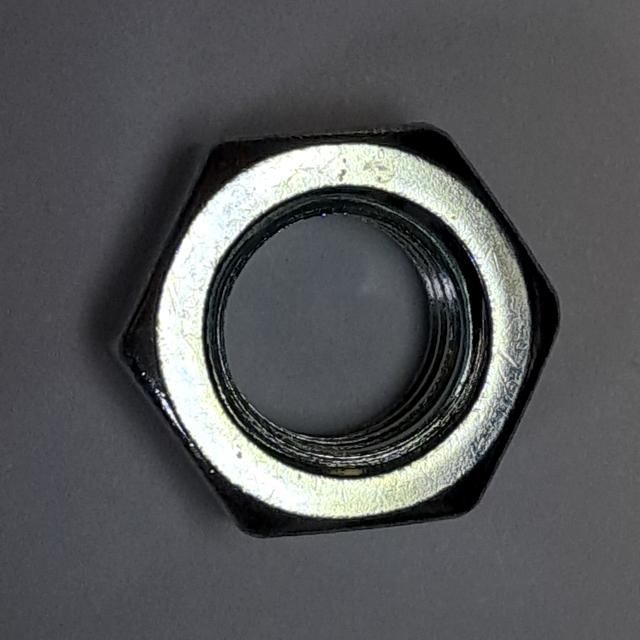Excellent: (94, 111, 578, 553)
